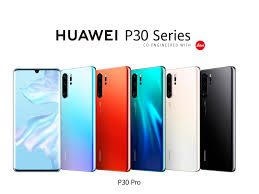huawei: (14, 67, 61, 172), (59, 66, 95, 171), (93, 65, 129, 170), (129, 65, 165, 170), (164, 66, 200, 171), (200, 66, 236, 171)
